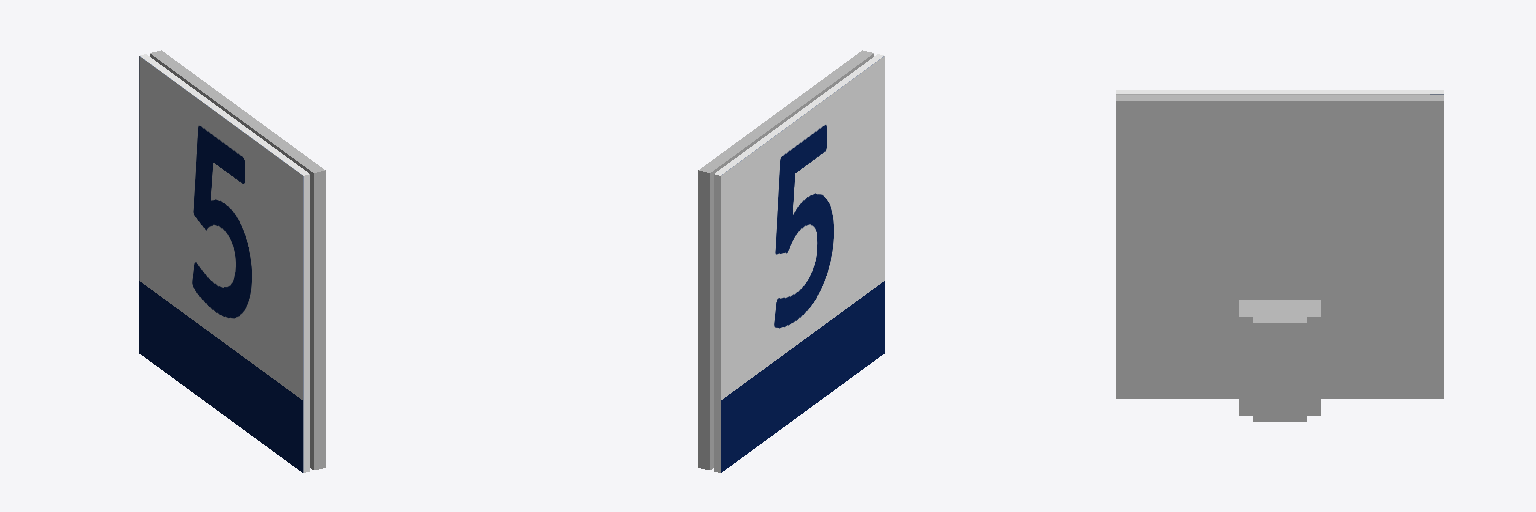
3 views of the same model, side by side, from view 1: azimuth 30°, elevation 25°; view 2: azimuth 150°, elevation 25°; view 3: azimuth 270°, elevation 25° (orthographic).
Parts seen in each view (by area): view 1: cube; view 2: cube; view 3: cube.
Boxes of the visible parts, <box> form: cube: <box>139,50,325,472</box>; cube: <box>698,50,884,472</box>; cube: <box>1116,90,1443,421</box>.
Size of the model in its own units: 0.0922 by 0.375 by 0.375.
Materials: 2 (1 with a texture image).